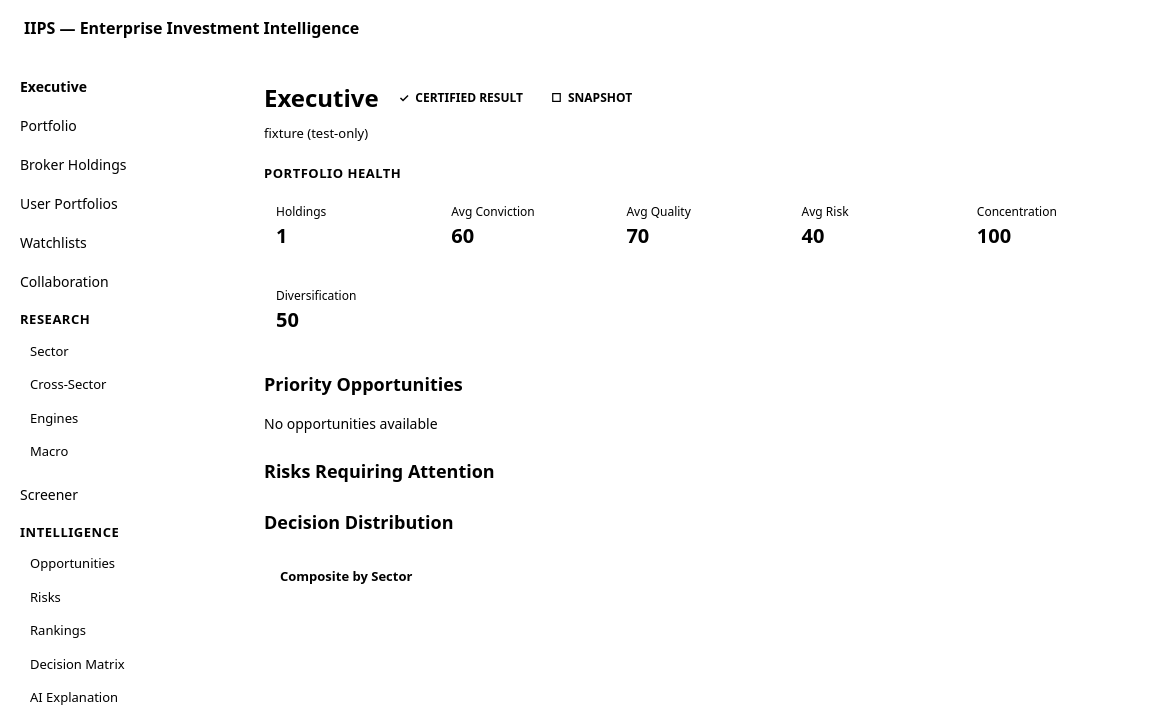
Test: Application Shell › opens AI Explanation directly and sends no authorization header
What coordinates should you click on to do the following:
click the link "AI Explanation"
I would click on:
 (74, 697)
Its box is [30,688,118,706].
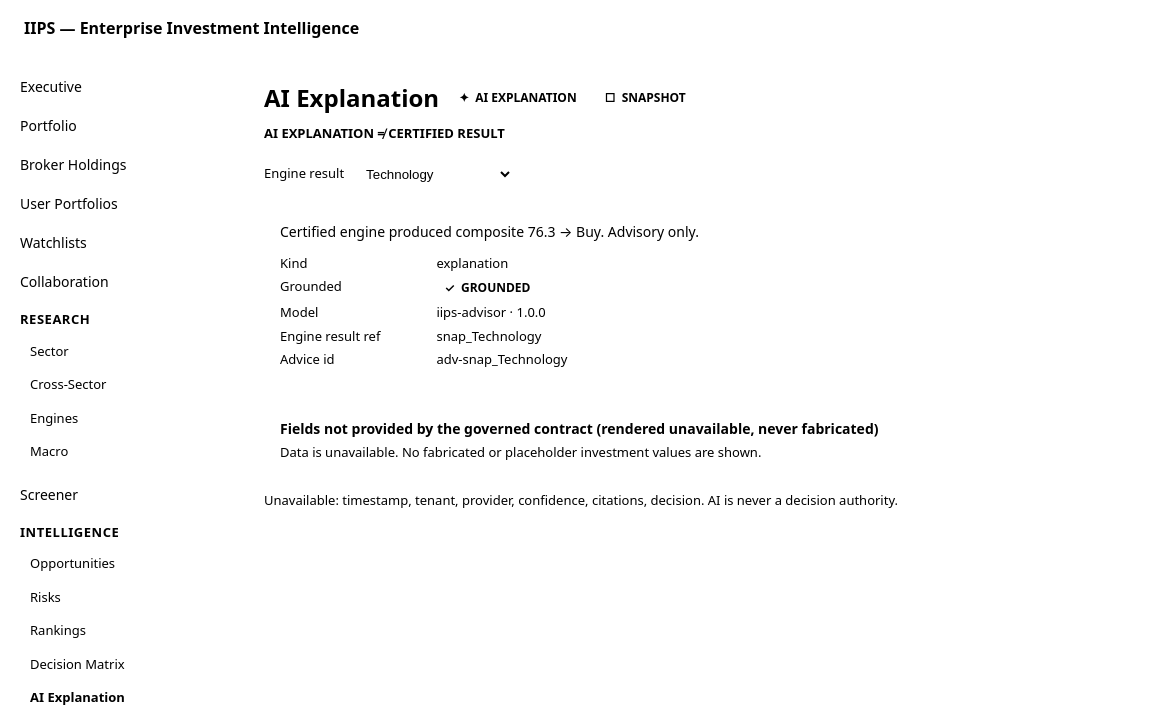
Now the text "AI EXPLANATION ≠ CERTIFIED RESULT" is shown, box [264,124,505,142]
Now the element with test id "ai-advice" is shown, box [280,222,699,368]
